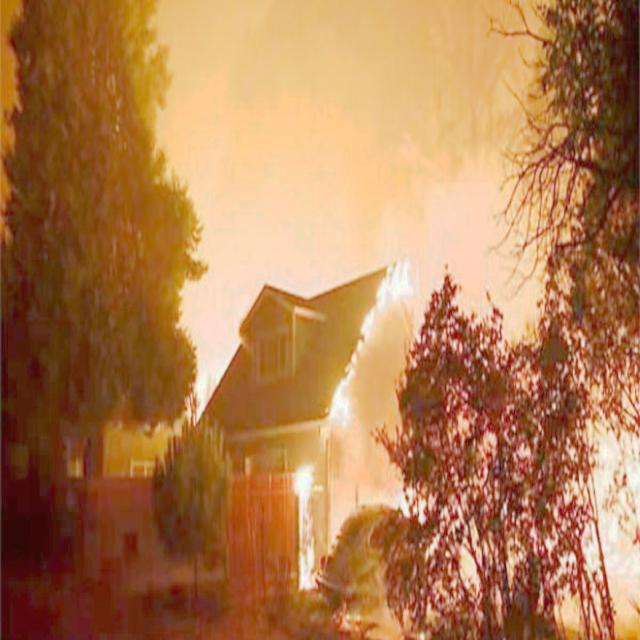api: (293, 466, 323, 601), (182, 358, 229, 422), (377, 257, 417, 315), (325, 368, 358, 426), (355, 305, 377, 362)
